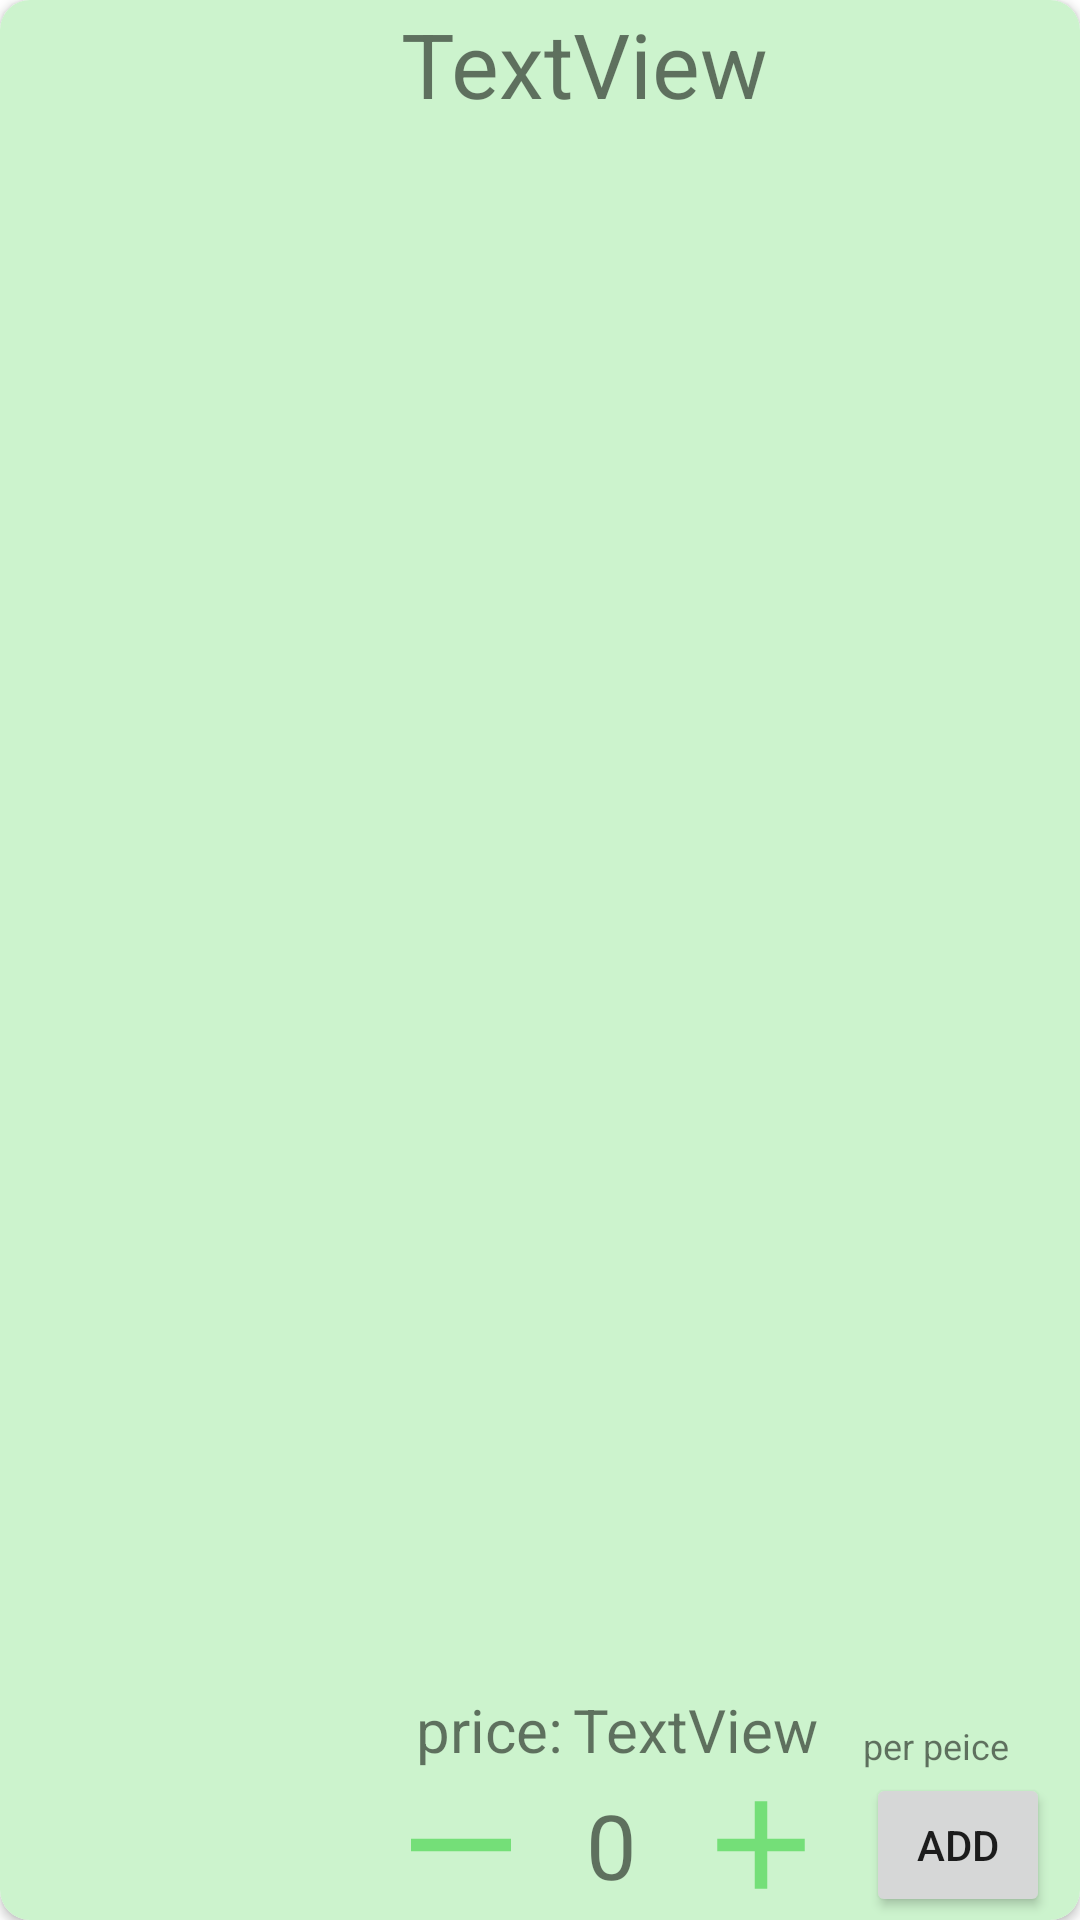

Icons on this 1080 x 1920 Android screen, each with the point to tap as point (x, y):
add appcolor: point (761, 1845)
